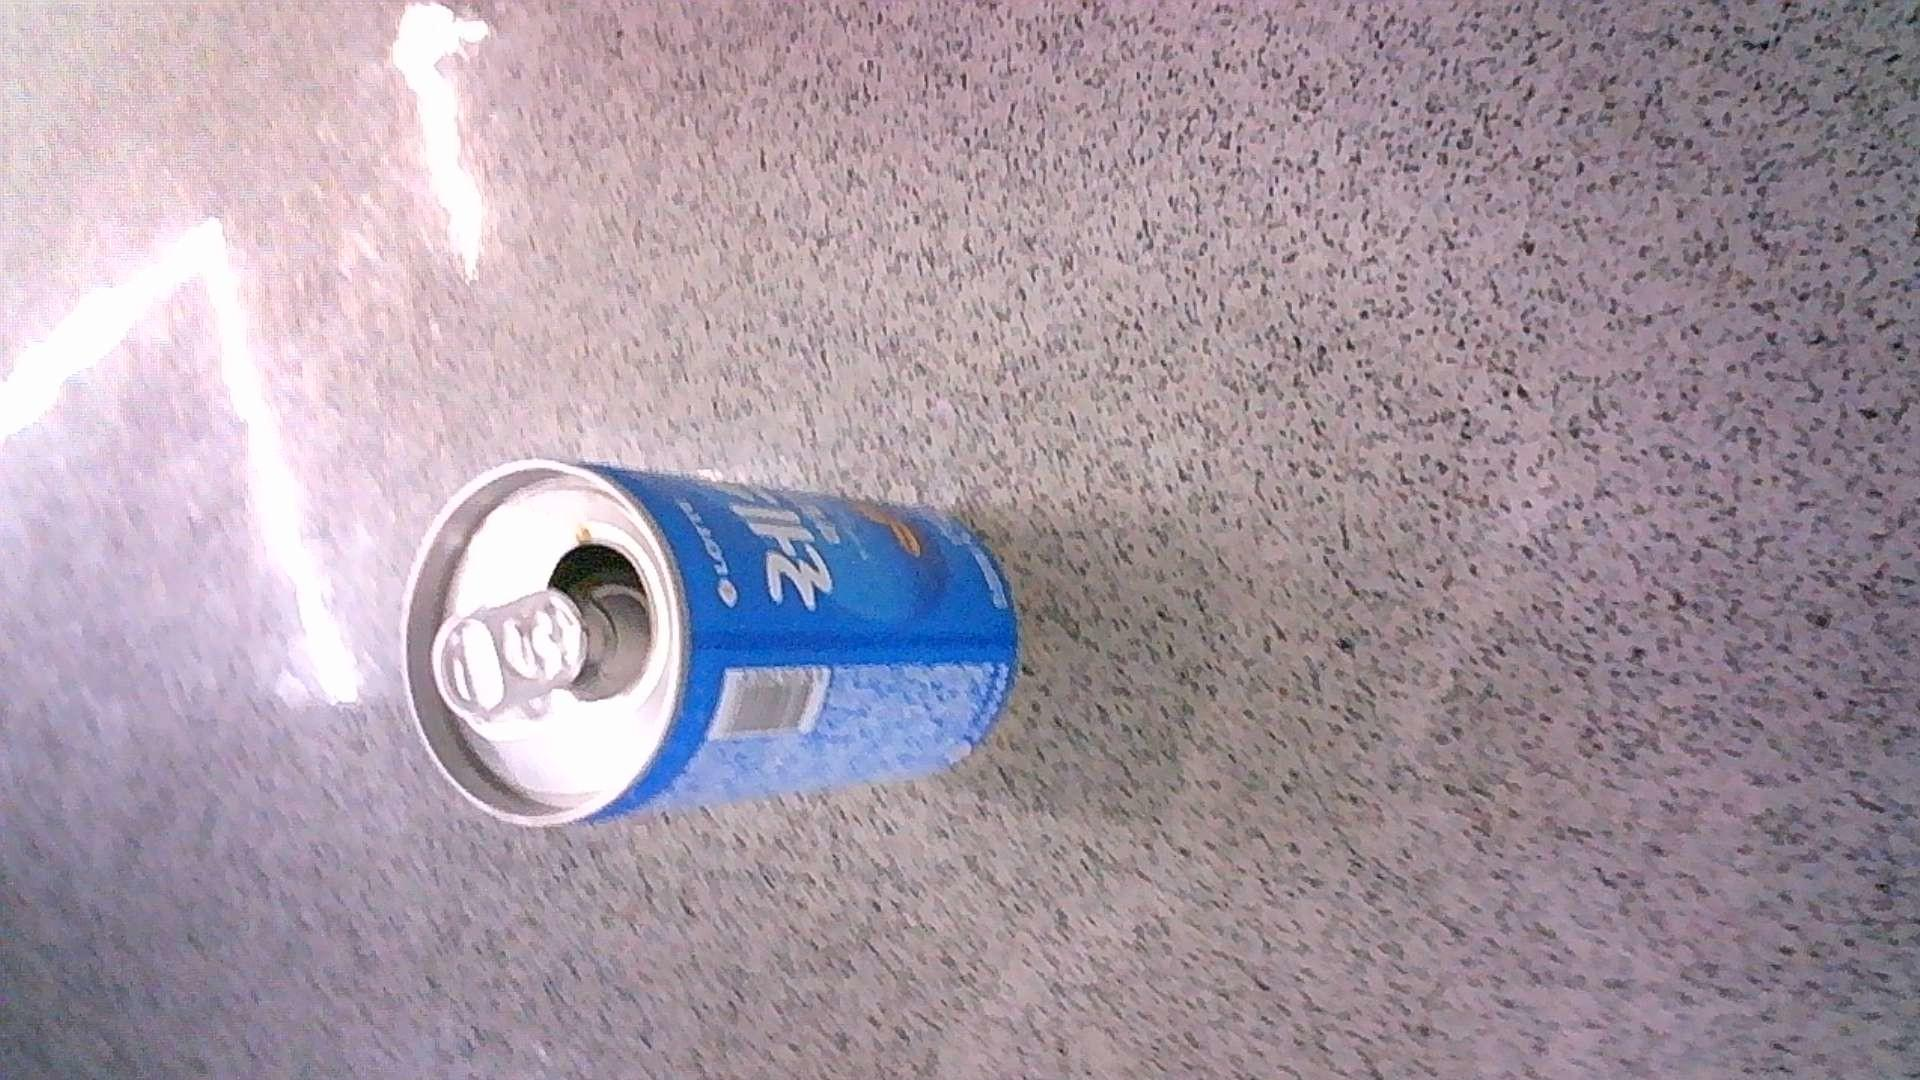letsbe: (400, 455, 1019, 828)
